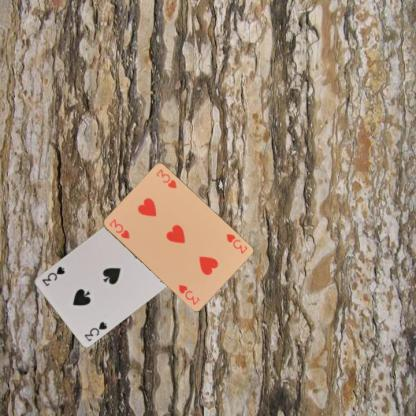3h: (106, 216, 131, 240), (224, 231, 248, 255)
3s: (82, 318, 108, 343)
